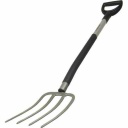Fork: (10, 1, 127, 125)
